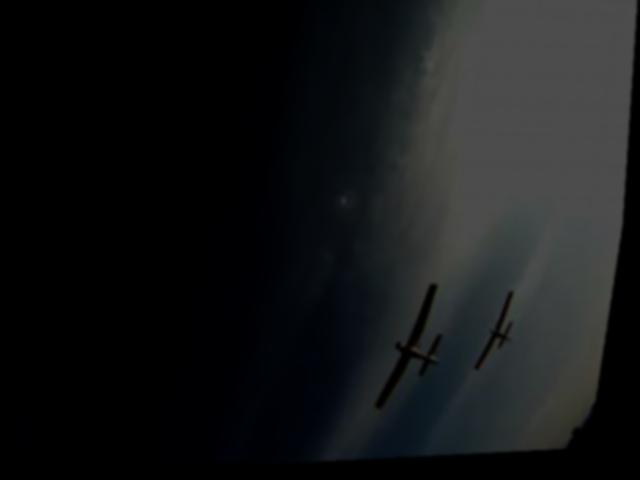uav: (373, 275, 468, 429)
